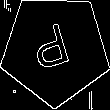P_S: (31, 20, 79, 79)
